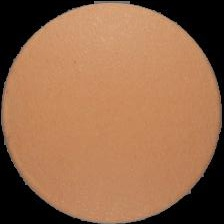0591-0404: (0, 0, 224, 224)
